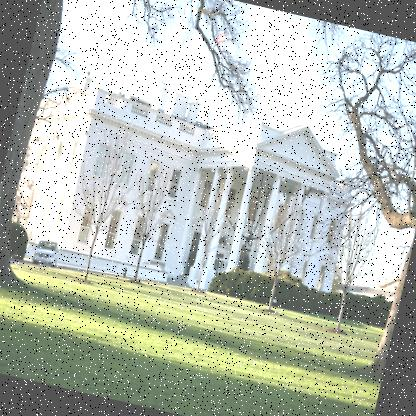Car: (30, 235, 62, 267)
